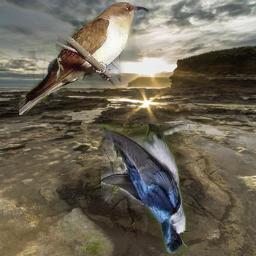Cuckoo: (19, 2, 149, 115)
Swallow: (101, 124, 190, 254)
